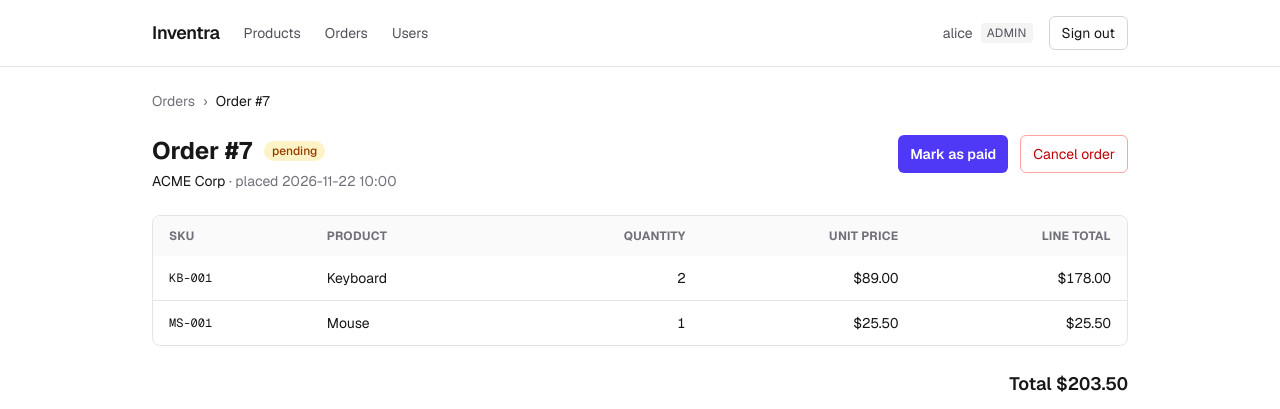
Test case: OrderDetail › updates the page after a status change
The width and height of the screenshot is (1280, 409).
Click the button "Mark as paid" at (953, 154), box [898,135,1008,173]
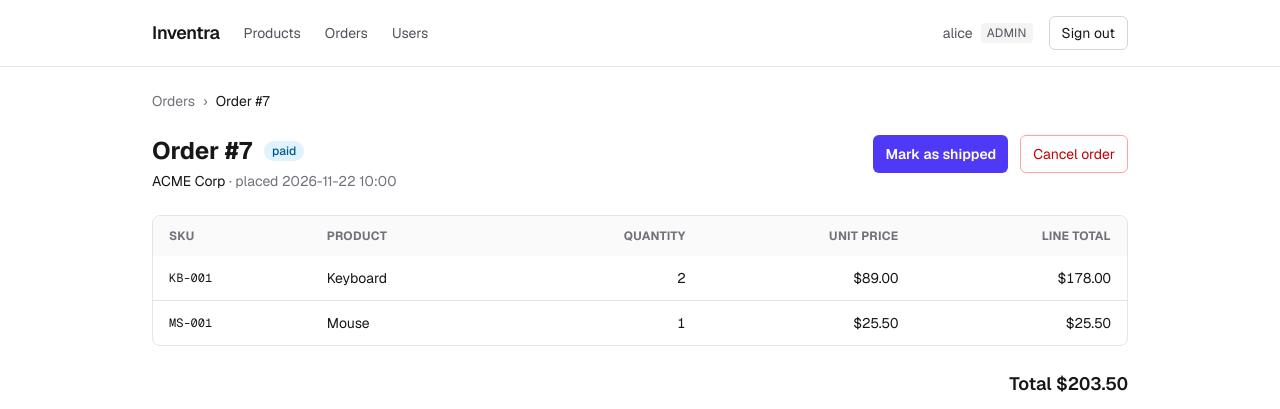
Expected: the text "paid" is shown, [264,141,304,161]
Expected: the button "Mark as shipped" is shown, [873,135,1008,173]
